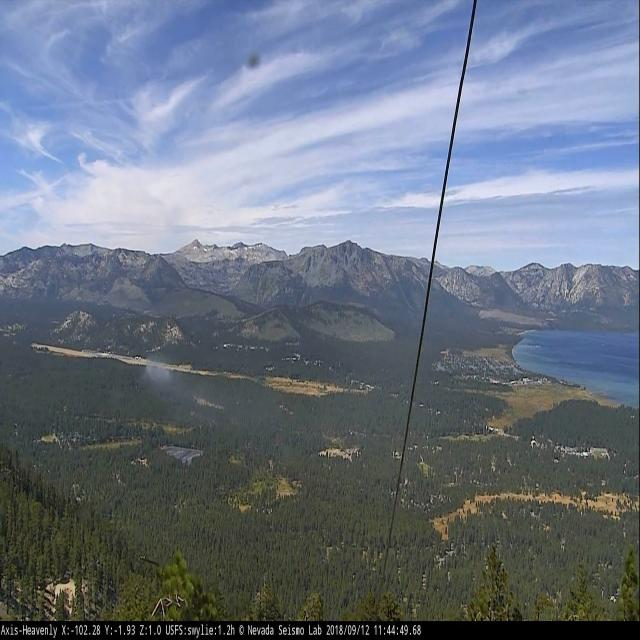smoke: (142, 352, 170, 388)
